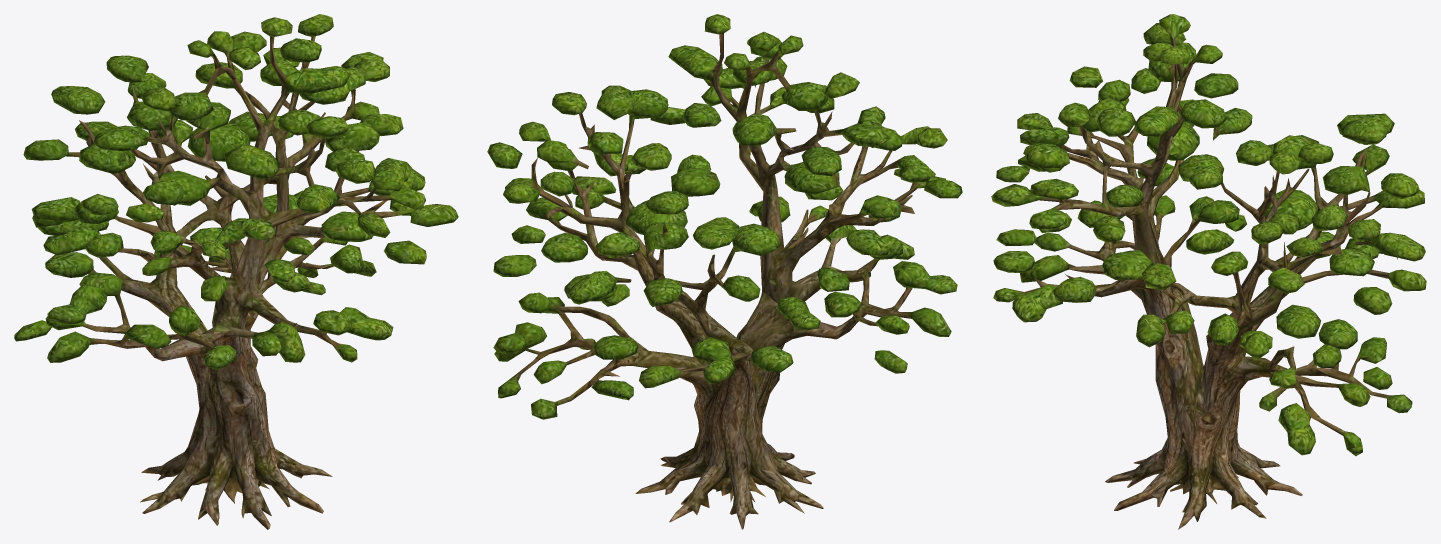
File: arvore_larga.glb
3 views of the same model, side by side, from view 1: azimuth 30°, elevation 25°; view 2: azimuth 150°, elevation 25°; view 3: azimuth 270°, elevation 25° (orthographic). The views are drawn at different scales.
Parts seen in each view (by area): view 1: arvore_larga; view 2: arvore_larga; view 3: arvore_larga.
Part boxes in pixels (bbox=[...]): arvore_larga: bbox=[14, 14, 458, 529]; arvore_larga: bbox=[487, 14, 962, 529]; arvore_larga: bbox=[991, 14, 1426, 529].
Size of the model in its own units: 8.16 by 9 by 7.8.
1 material, 1 textured.
